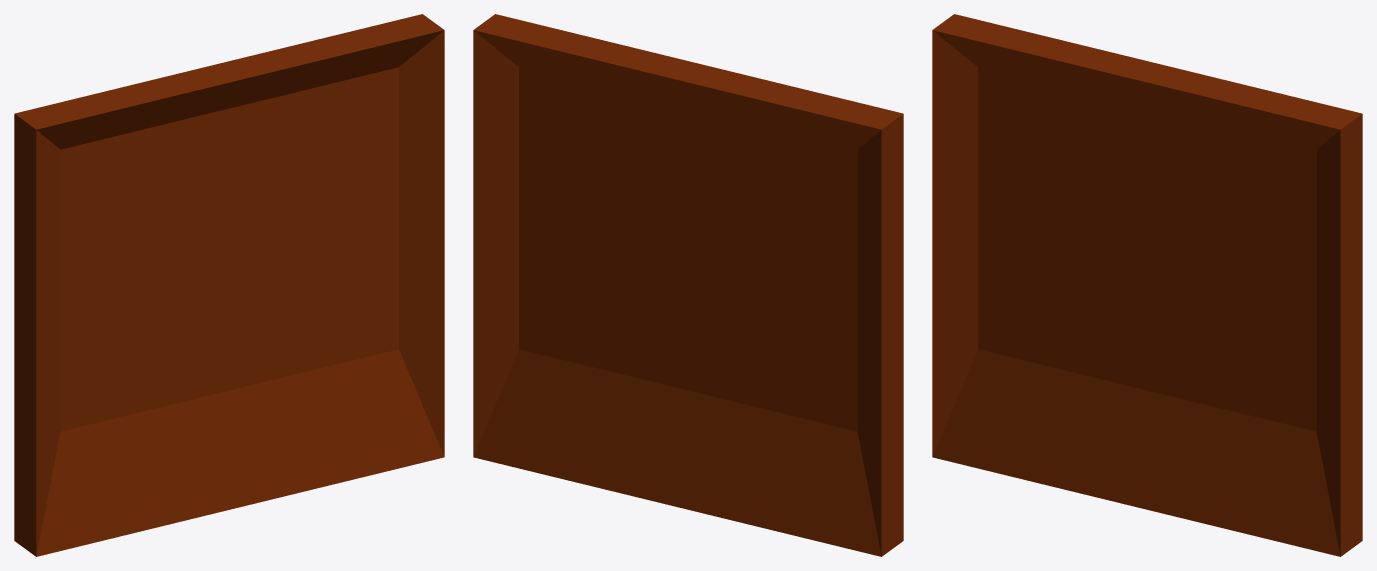
The model's file is wall.glb.
The picture shows the model from 3 angles, left to right: view 1: azimuth 30°, elevation 25°; view 2: azimuth 150°, elevation 25°; view 3: azimuth 330°, elevation 25°; orthographic projection.
Parts seen in each view (by area): view 1: Cube; view 2: Cube; view 3: Cube.
Part boxes in pixels (box(x1,y1,x2,y2)): Cube: box(14, 14, 444, 556); Cube: box(473, 14, 903, 556); Cube: box(932, 14, 1362, 556).
Size of the model in its own units: 1.5 by 1.5 by 0.14.
